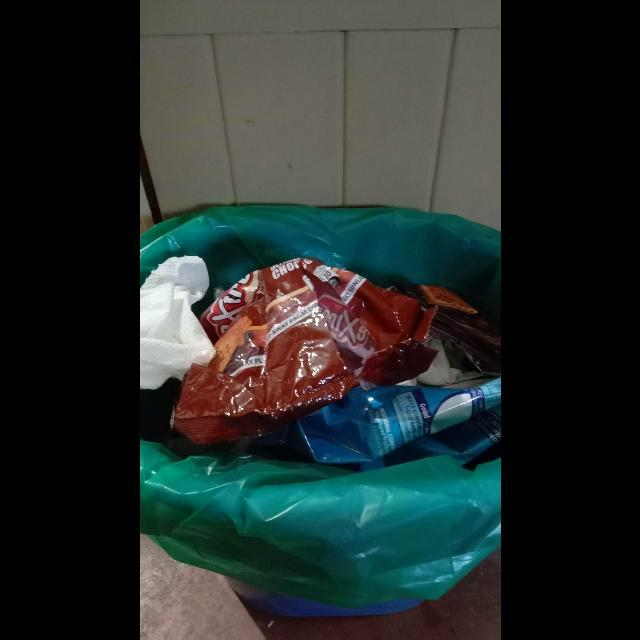food_wrapper: (170, 254, 480, 444), (298, 373, 501, 469)
plastic_bag: (139, 255, 217, 389)
